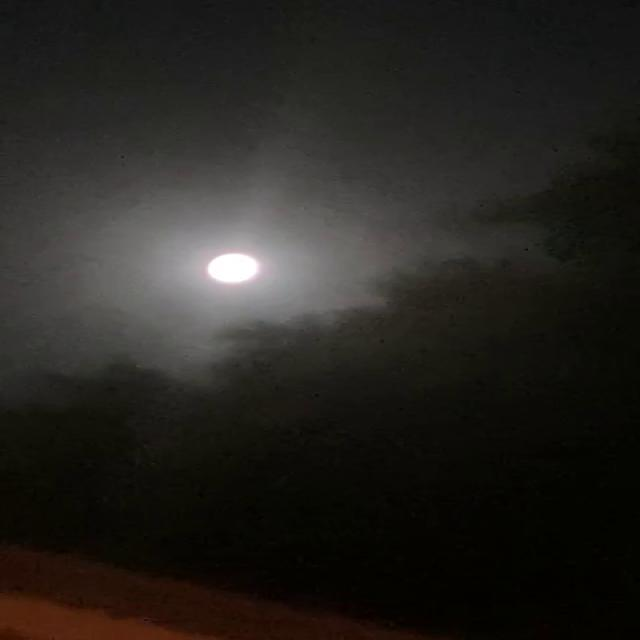moon: (190, 251, 273, 295)
